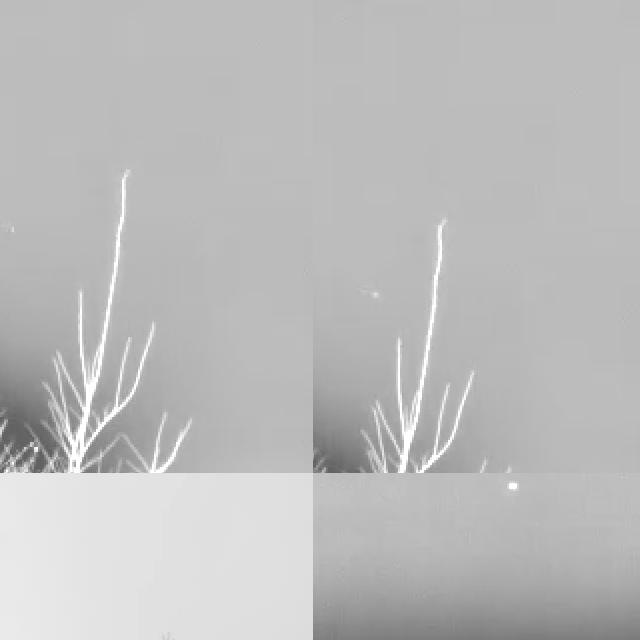0: (363, 282, 393, 310), (6, 219, 30, 247)
1: (503, 474, 529, 498)
drone: (153, 622, 181, 640)
